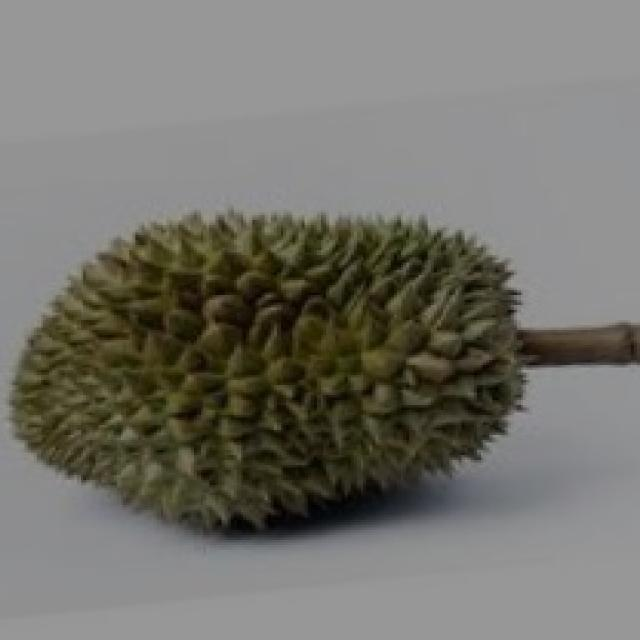fruit: (0, 175, 366, 590), (197, 172, 569, 562)
